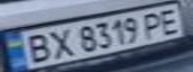1: (109, 16, 130, 46)
3: (93, 20, 115, 50)
8: (75, 23, 96, 53)
9: (121, 14, 145, 44)
B: (18, 30, 54, 64)
E: (154, 6, 187, 36)
P: (139, 9, 169, 39)
X: (42, 26, 75, 60)
